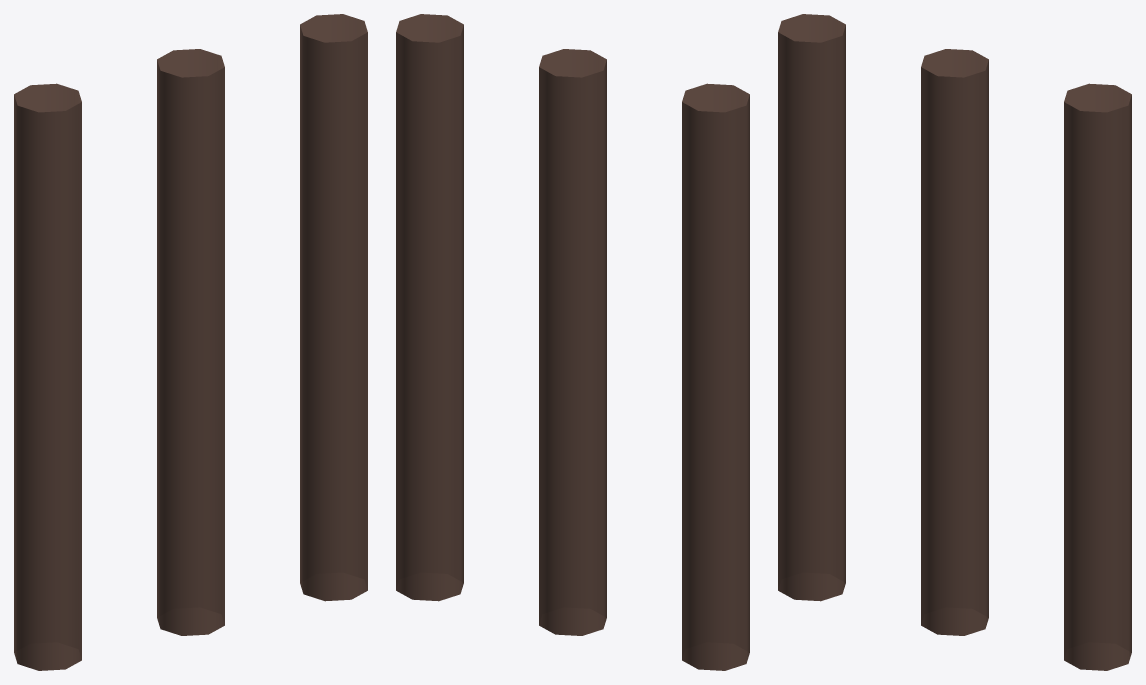
Rendered from DorsalAgeVeins_Overlay.obj.
3 views of the same model, side by side, from view 1: azimuth 30°, elevation 25°; view 2: azimuth 150°, elevation 25°; view 3: azimuth 330°, elevation 25° (orthographic).
Parts seen in each view (by area): view 1: Vein_1, Vein_3, Vein_2; view 2: Vein_1, Vein_3, Vein_2; view 3: Vein_1, Vein_3, Vein_2.
Boxes of the visible parts, x1,y1,x2,y2 form: Vein_1: (14, 83, 81, 670); Vein_3: (300, 14, 367, 601); Vein_2: (157, 49, 224, 635); Vein_1: (682, 83, 749, 670); Vein_3: (396, 14, 463, 601); Vein_2: (539, 49, 606, 635); Vein_1: (778, 14, 845, 601); Vein_3: (1064, 83, 1131, 670); Vein_2: (921, 49, 988, 635).
Bounding box in the file's own units: 0.182 × 0.28 × 0.032.
